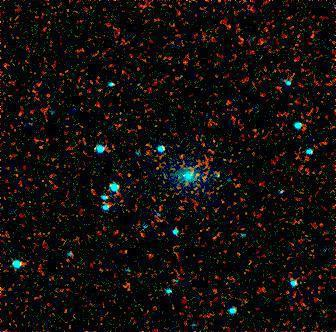star: (111, 234, 141, 264)
